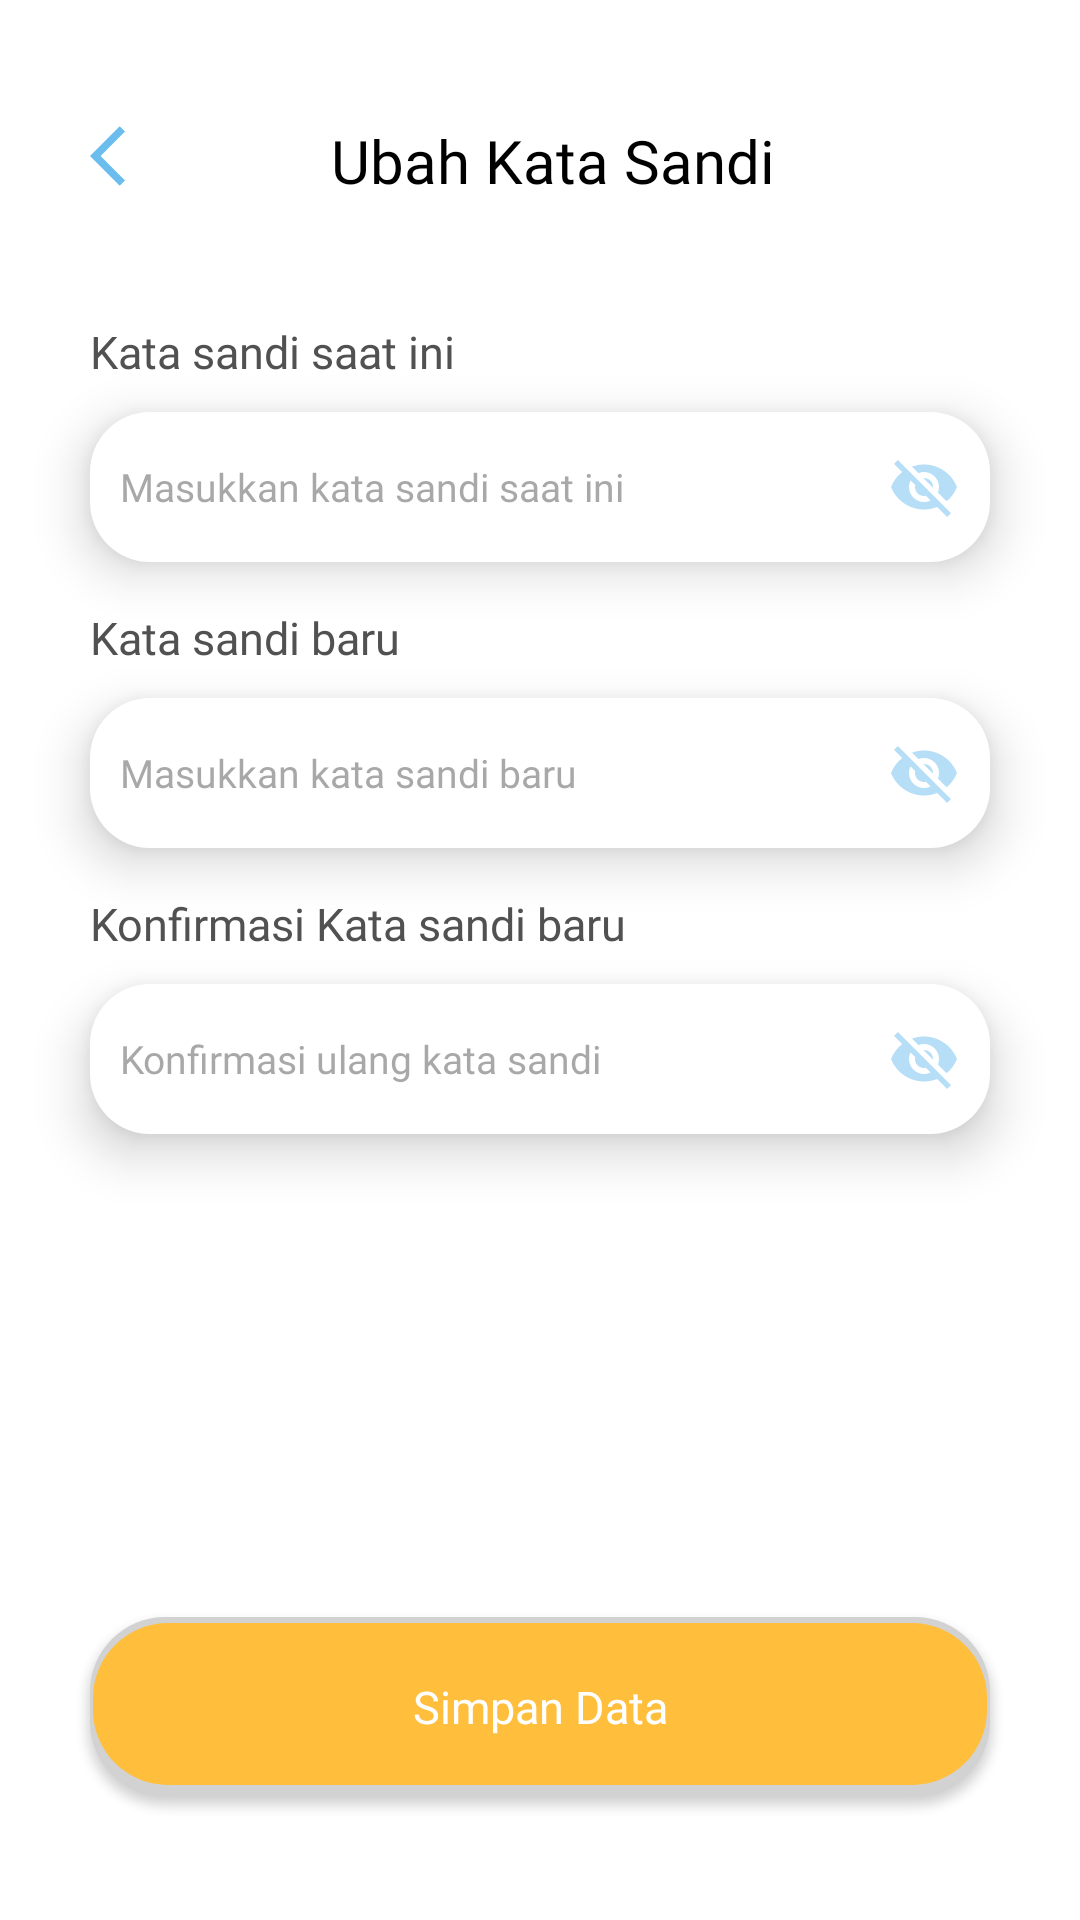

Locate icon controls on the screen. Image size 1080×1920, boxes as (x1, y1, x2, y2).
arrowback: (90, 126, 125, 186)
